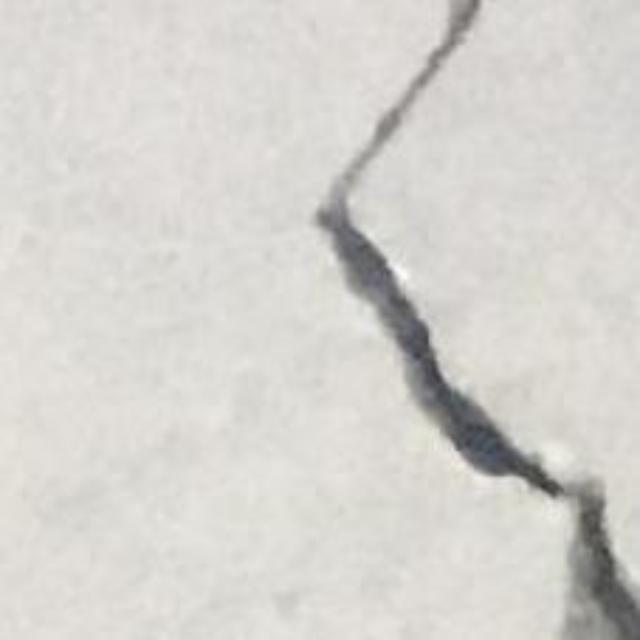crack: (316, 0, 639, 639)
